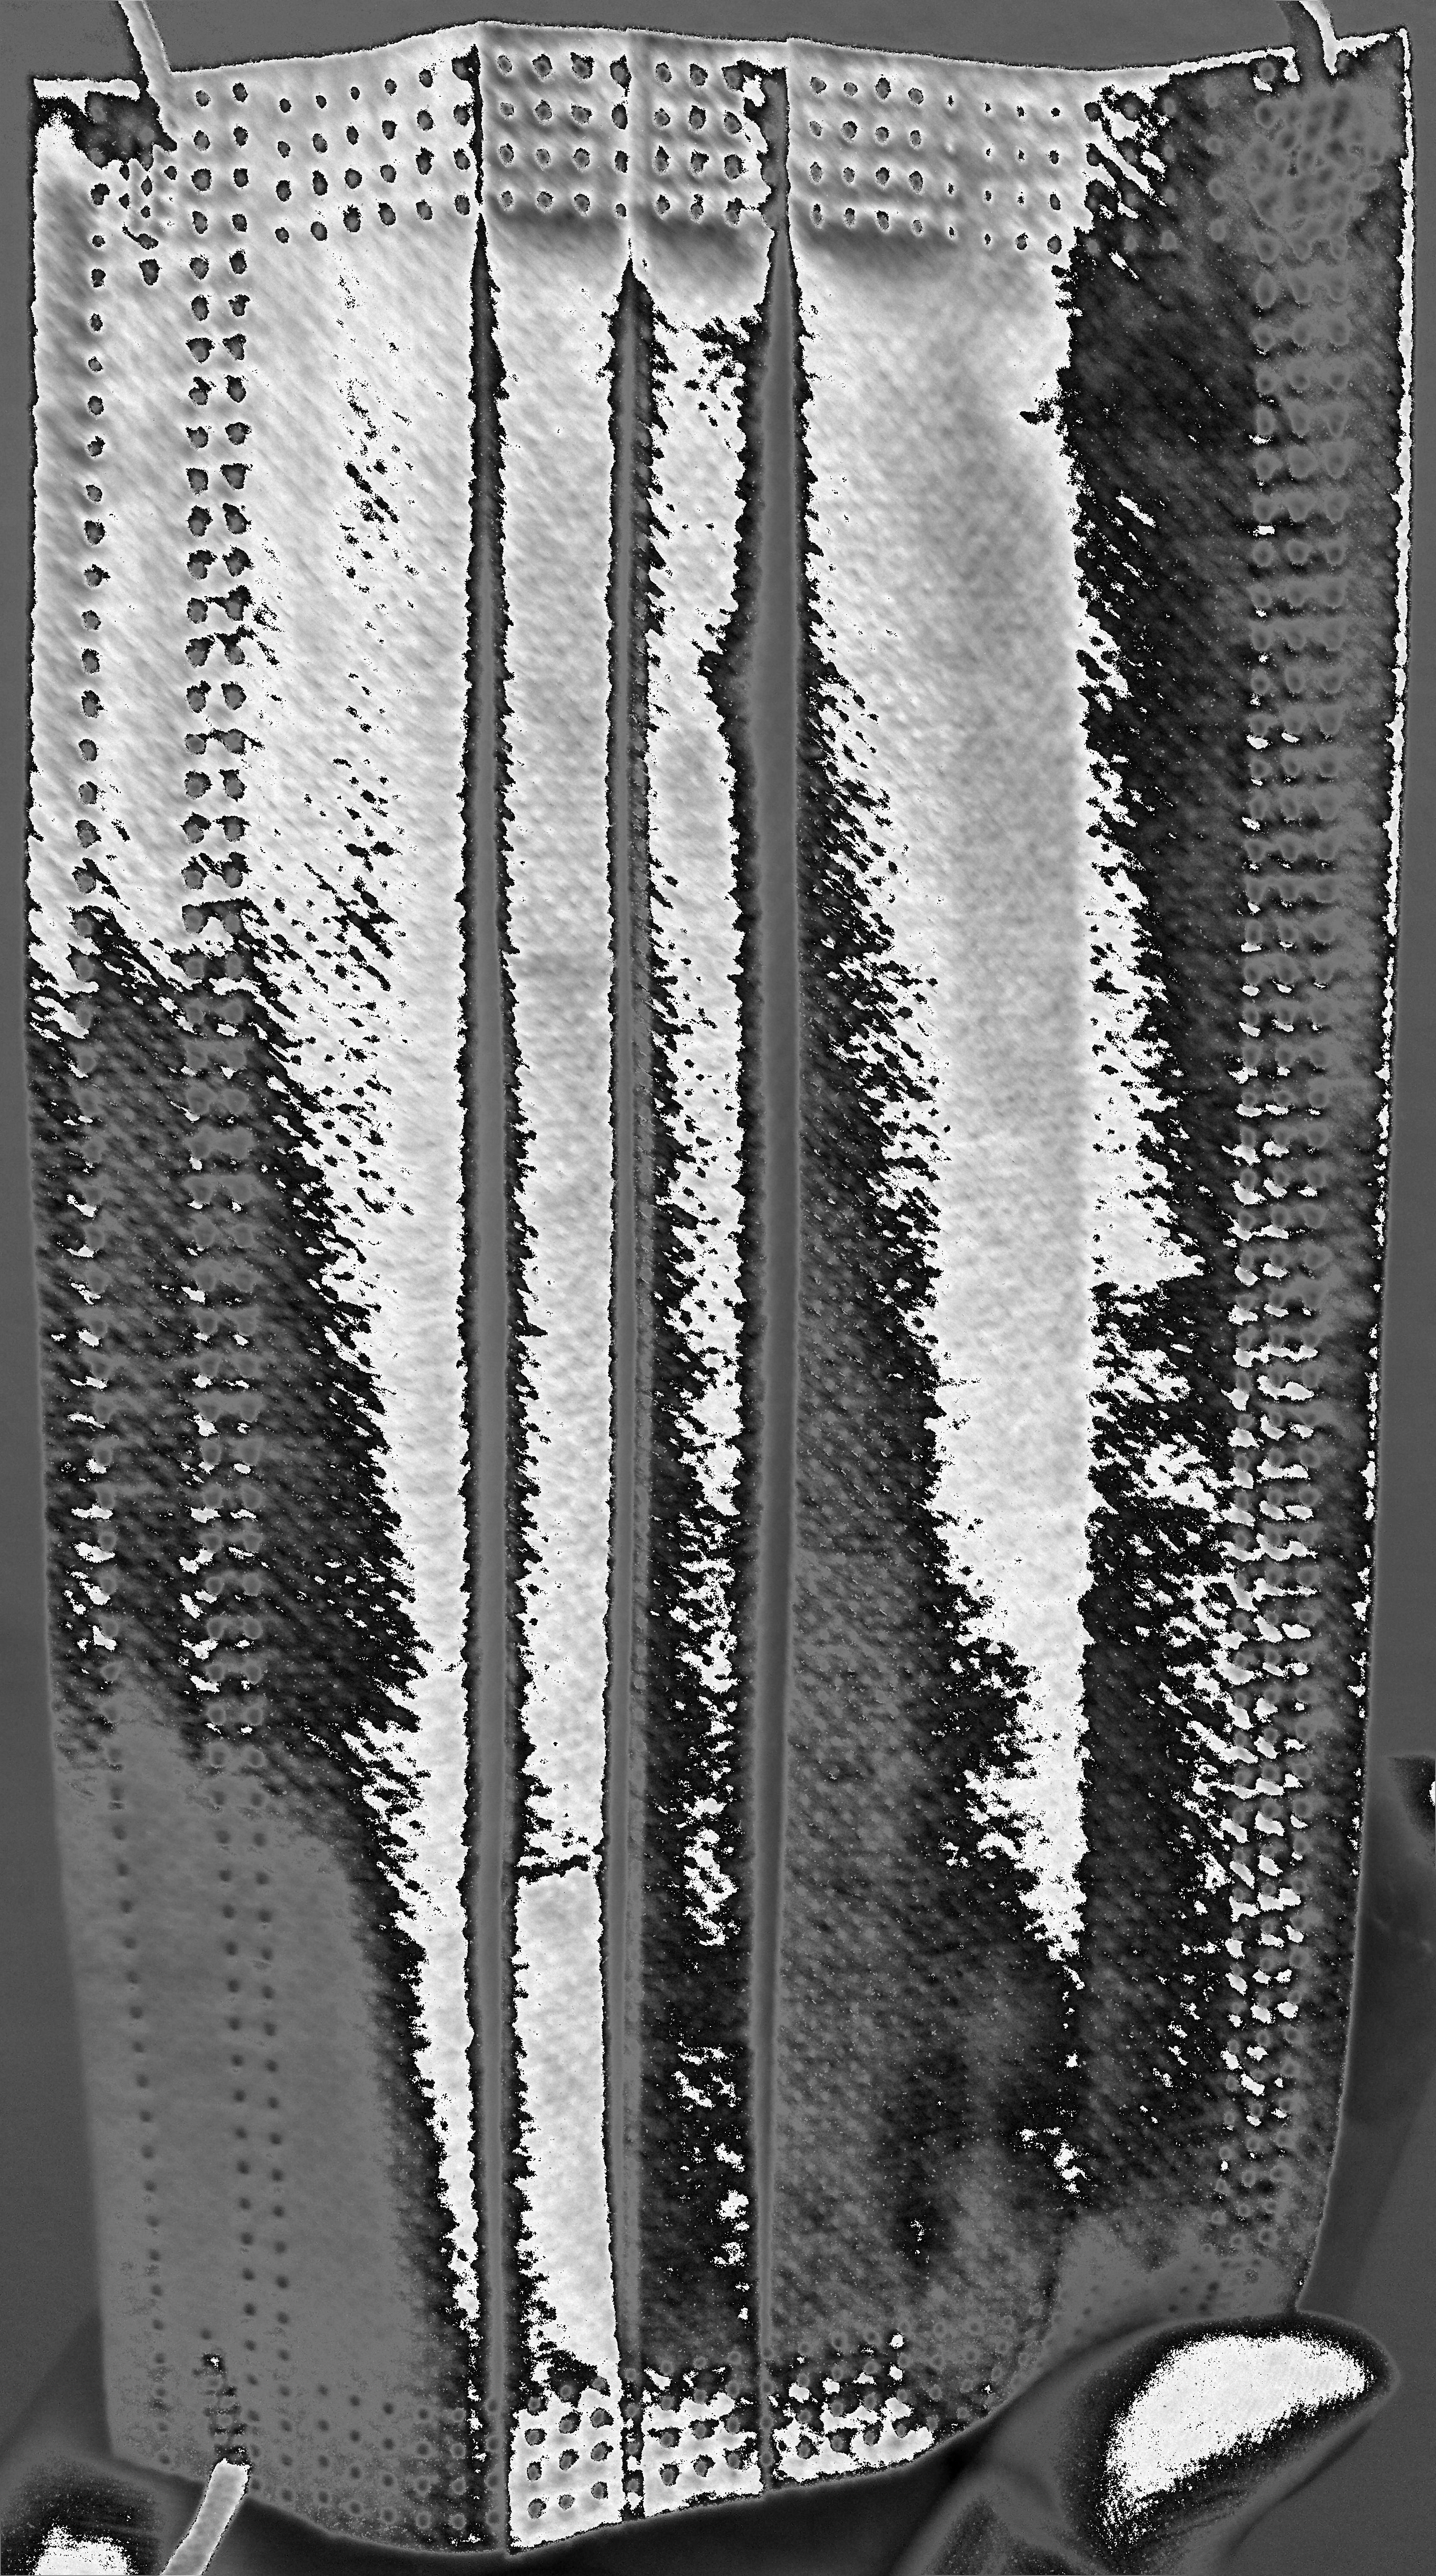Low GSM: (315, 338, 1188, 2307)
